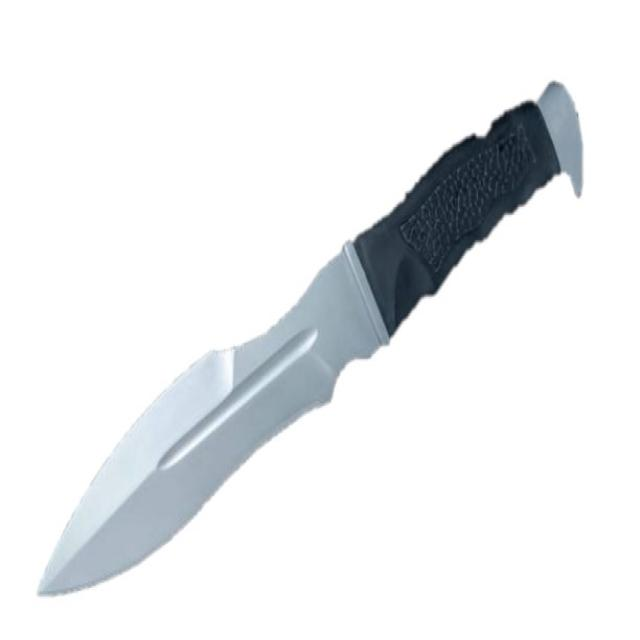knife: (35, 74, 593, 602)
